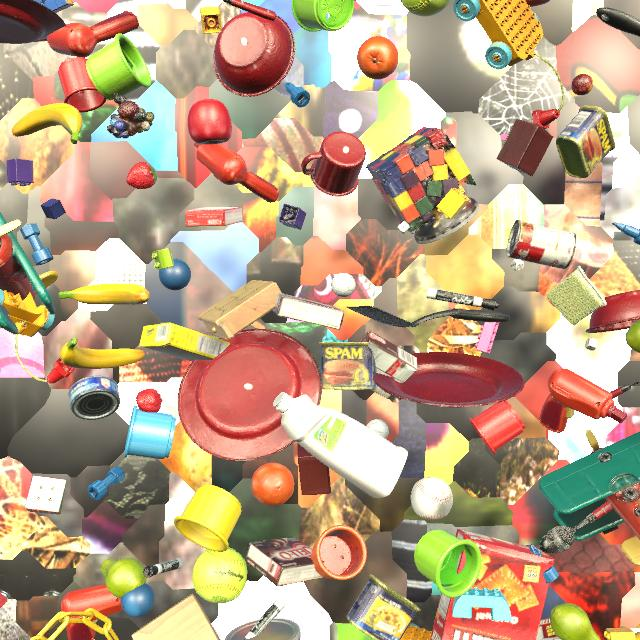ycb_003_cracker_box: (430, 529, 554, 640), (536, 618, 594, 640)
ycb_004_sugar_box: (139, 323, 231, 361)
ycb_005_tomato_soup_can: (506, 219, 577, 269)
ycb_007_tuna_fish_can: (68, 375, 120, 420)
ycb_008_pudding_box: (358, 330, 418, 399), (246, 537, 325, 587), (272, 293, 345, 330)
ycb_009_gelatin_box: (185, 207, 243, 227)
ycb_010_potted_meat_can: (346, 574, 421, 640), (556, 105, 615, 178), (319, 342, 376, 390)
ycb_011_banana: (12, 103, 82, 144), (60, 338, 145, 369), (59, 283, 150, 305), (635, 632, 640, 640)
ycb_012_strawberry: (126, 162, 157, 189), (136, 388, 162, 413)
ycb_013_apple: (188, 99, 232, 145)
ycb_016_pear: (550, 603, 601, 640), (101, 558, 147, 598), (625, 319, 640, 353)
ycb_017_orange: (251, 462, 294, 506), (357, 36, 399, 80)
